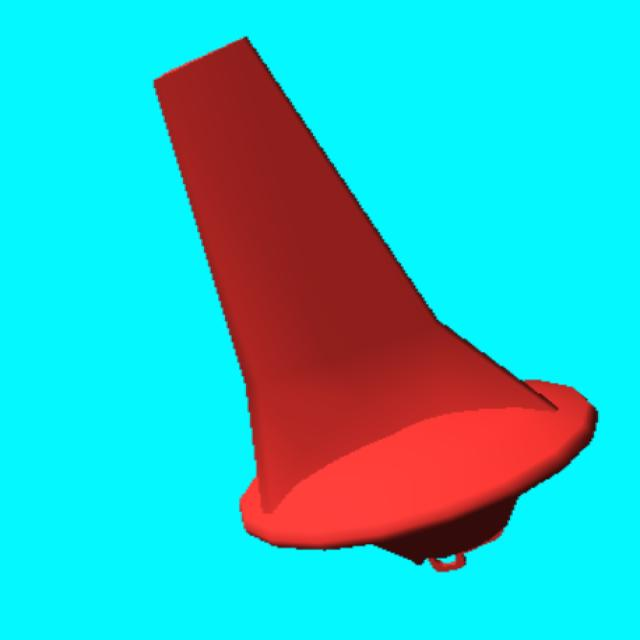RedBuoy: (156, 39, 596, 561)
